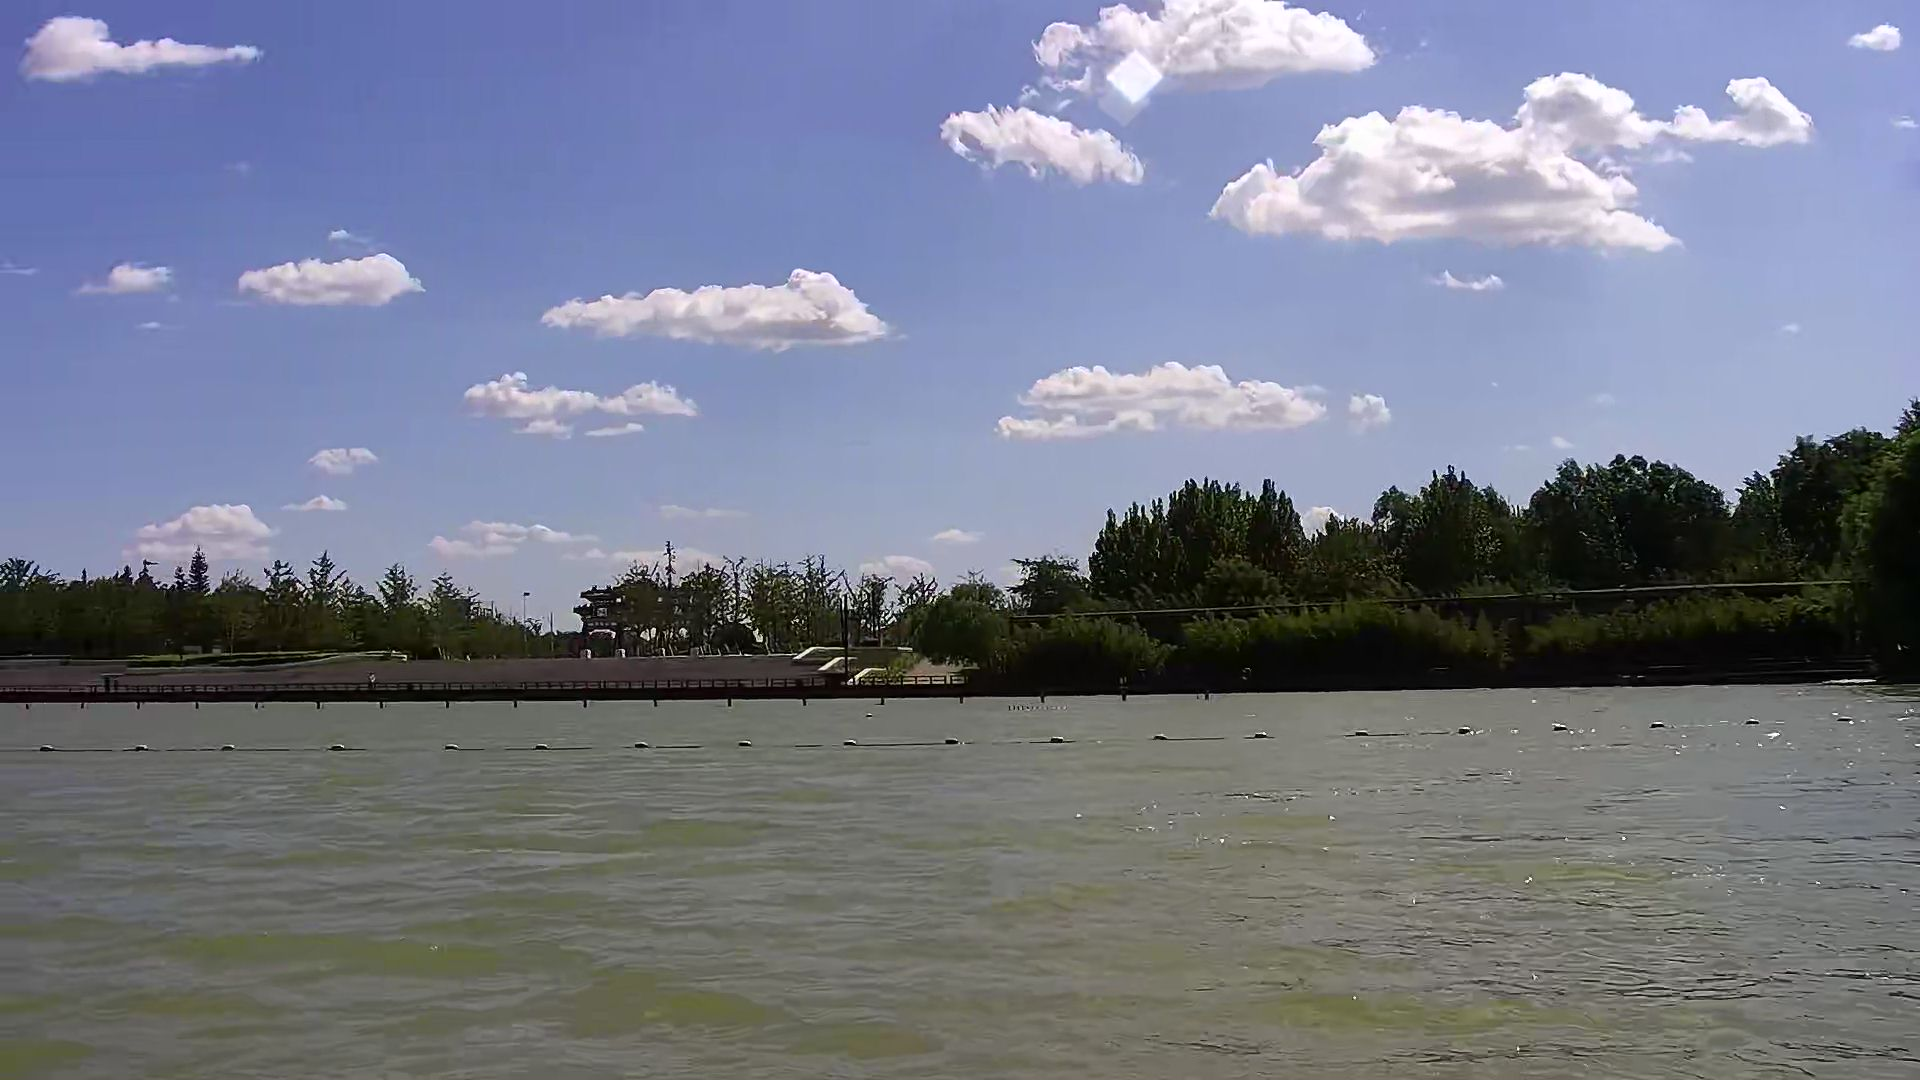ball: (1451, 717, 1480, 742), (1046, 727, 1073, 752), (131, 738, 160, 761), (36, 737, 61, 758), (322, 738, 352, 756), (215, 737, 237, 760)
harbor: (1, 649, 975, 703)
